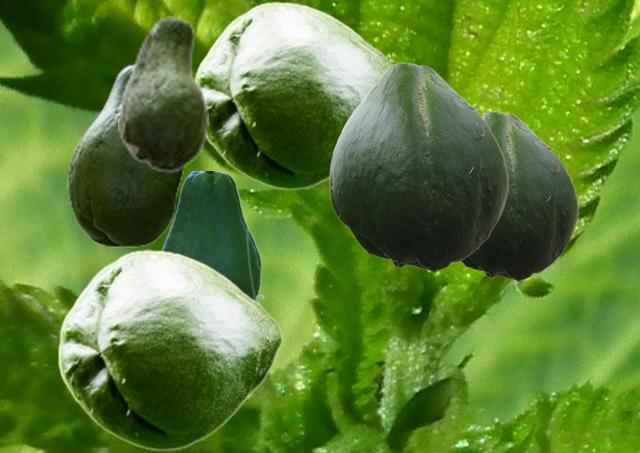sayote: (57, 249, 282, 450), (194, 1, 393, 189), (329, 62, 507, 272), (67, 63, 183, 246), (461, 111, 577, 281), (118, 16, 207, 172), (161, 171, 264, 300)
